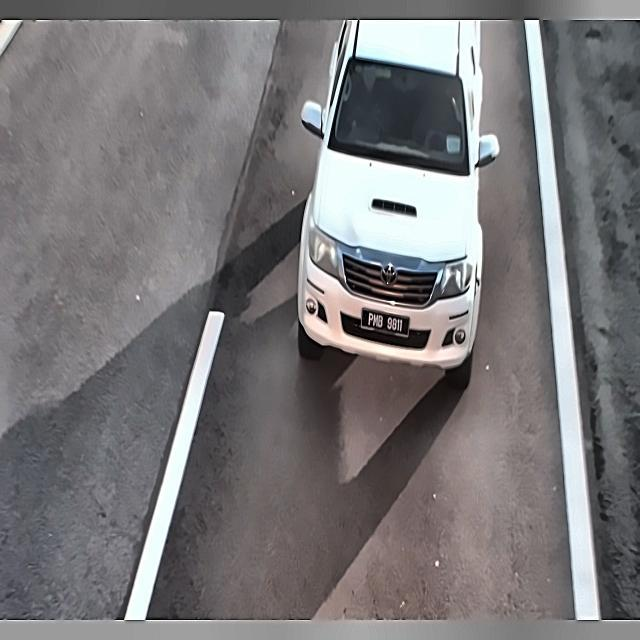car: (356, 298, 416, 343)
